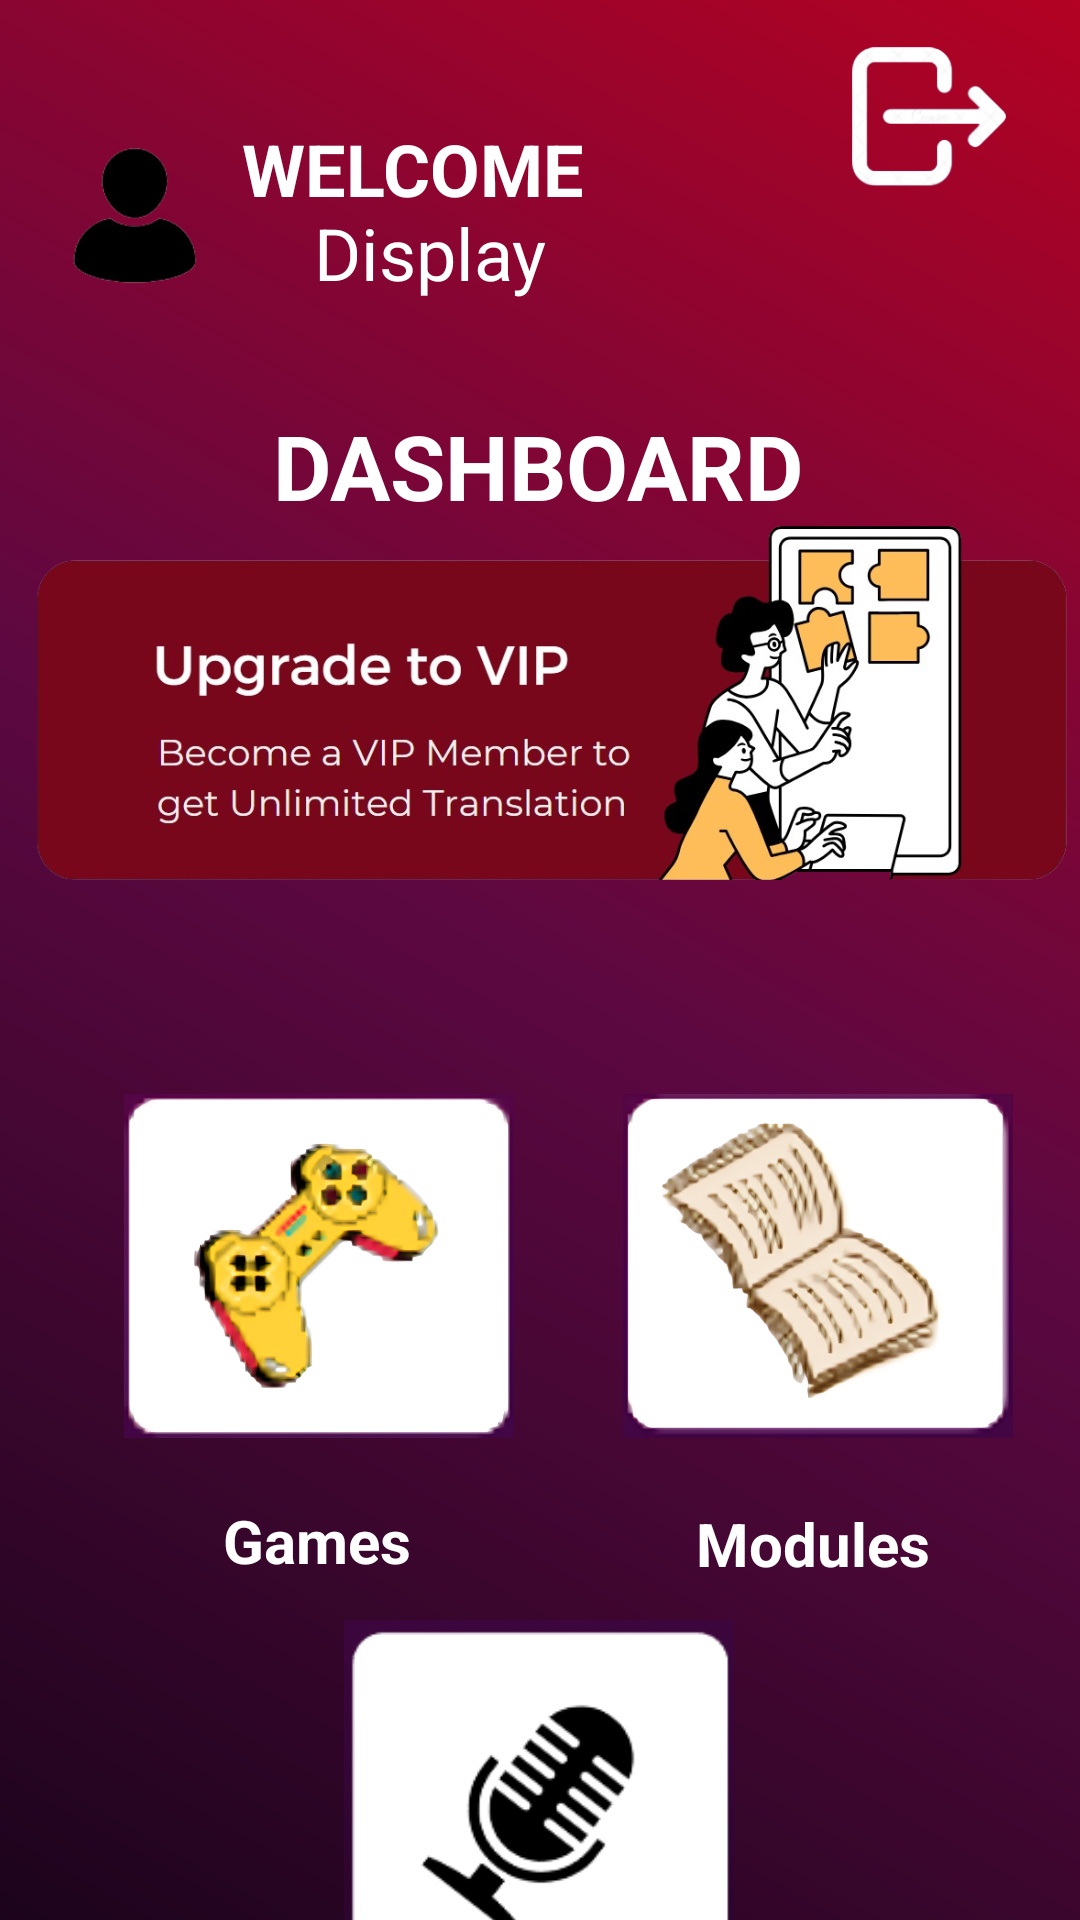

Locate icon controls on the screen. Image size 1080*1920, boxes as (x1, y1, x2, y2).
profile: (73, 148, 196, 283)
